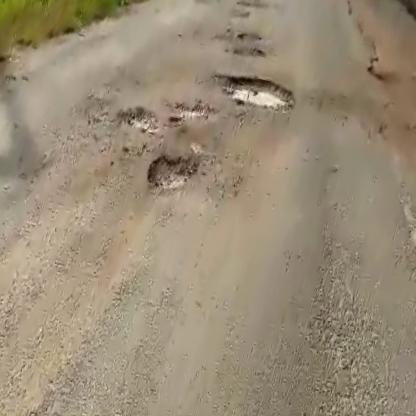pothole: (213, 63, 300, 116), (141, 143, 202, 204), (107, 94, 165, 139), (164, 93, 222, 137), (224, 33, 272, 62)
